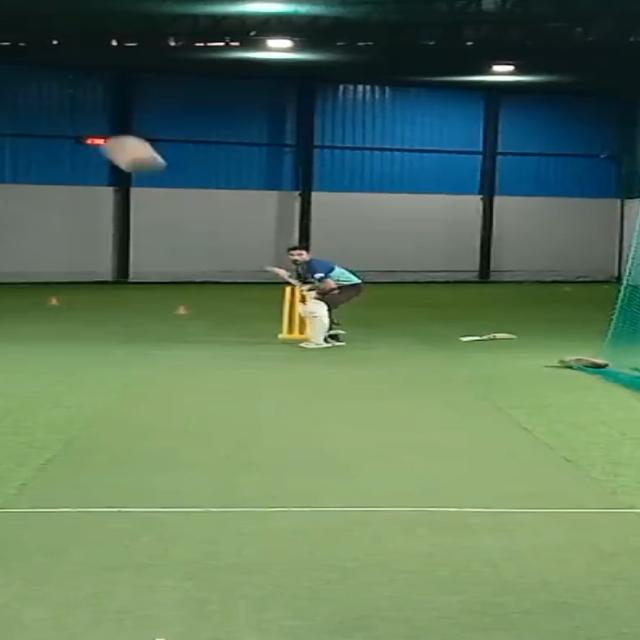ball: (117, 147, 171, 177)
